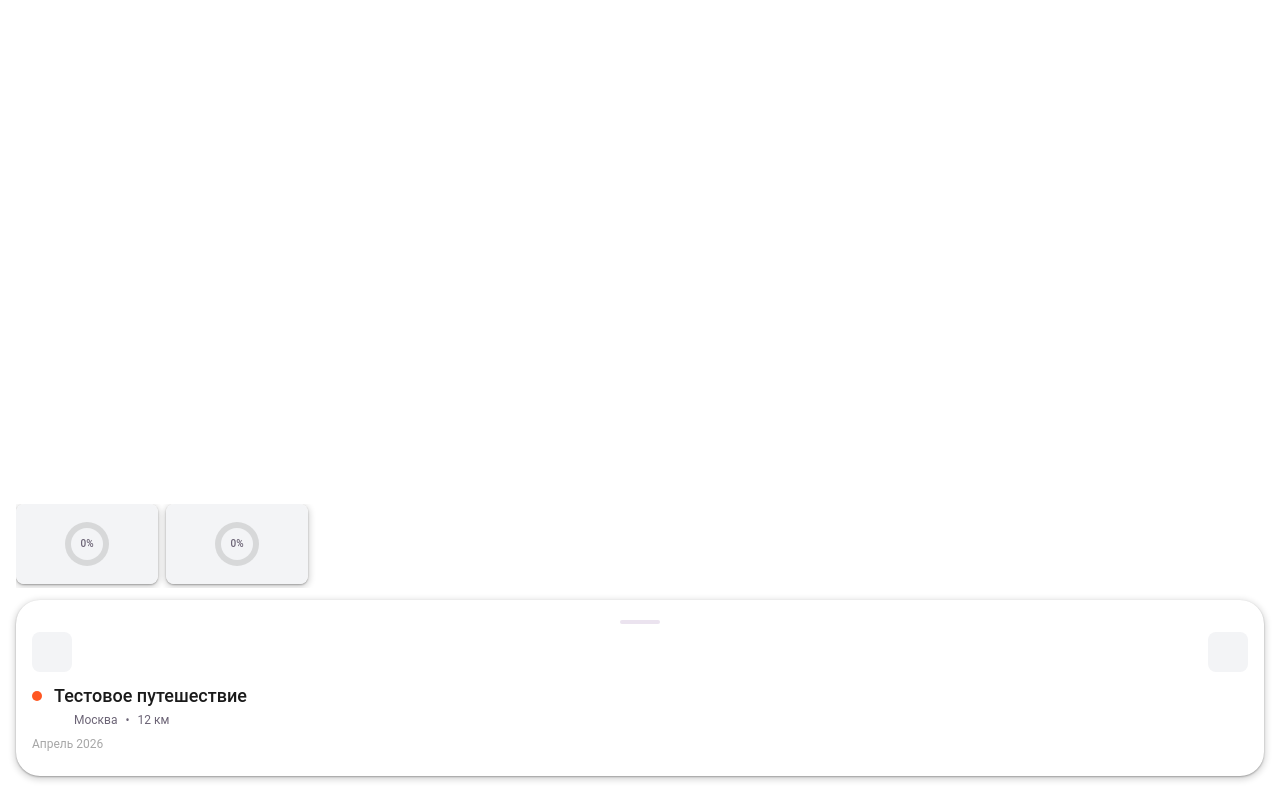
Test case: CardsMobile/Description › opens mobile gallery from preview and switches images by swipe
This screenshot has width=1280, height=800.
Click the 2nd button "0%" at (237, 544), box [166, 504, 308, 584]
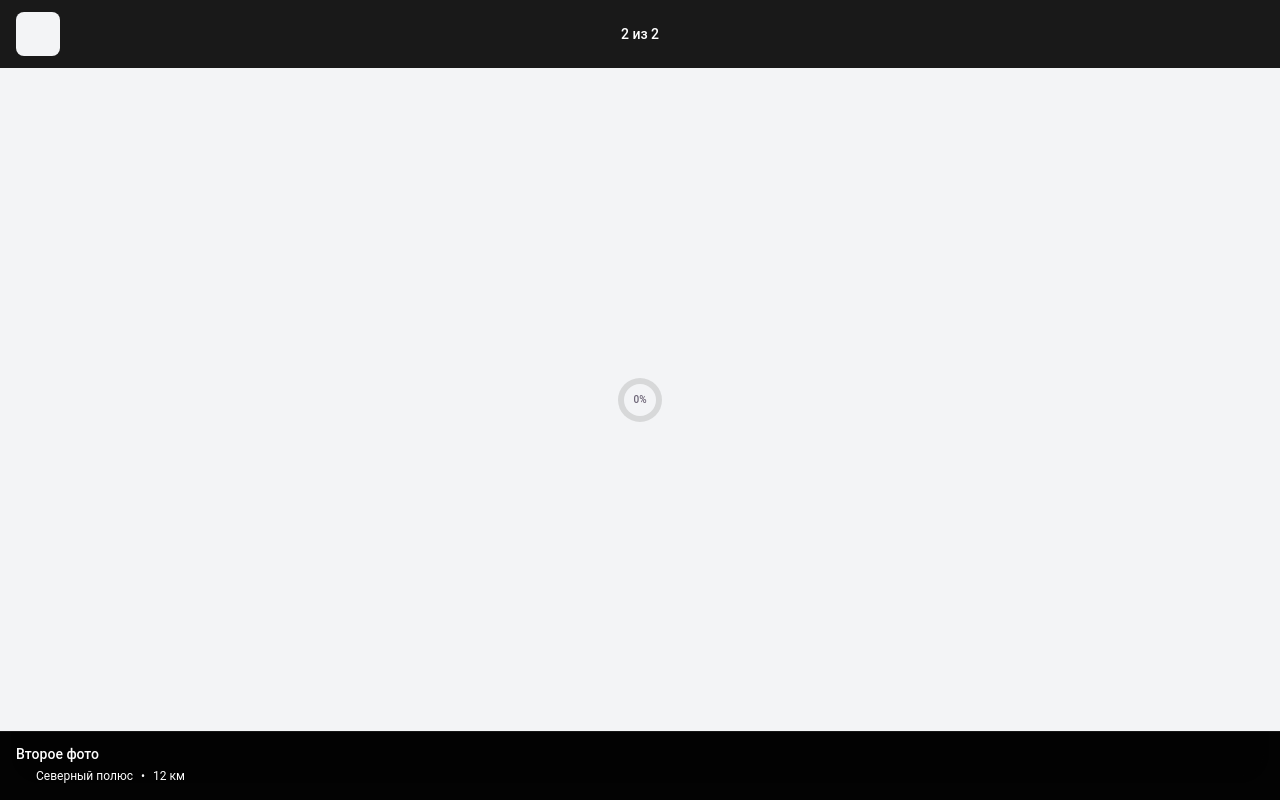
Now the text "2 из 2" is shown, box [621, 26, 659, 42]
Now the text "Второе фото" is shown, box [16, 746, 99, 762]
Press the mouse on the dialog named "Просмотр изображений" at (640, 400), box [0, 0, 1279, 799]
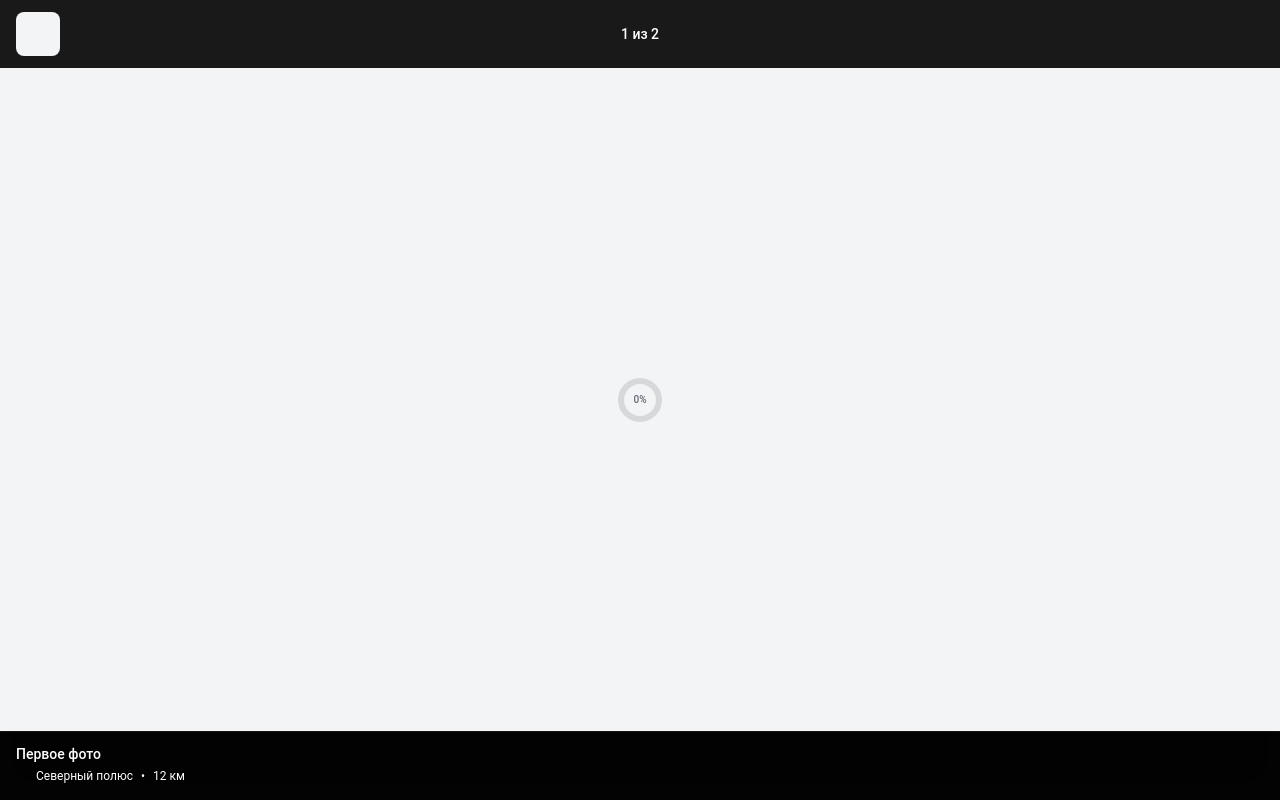
Now the text "1 из 2" is shown, box [621, 26, 659, 42]
Now the text "Первое фото" is shown, box [16, 746, 101, 762]
Click the button named "Закрыть просмотр" at (38, 34), box [16, 12, 60, 56]
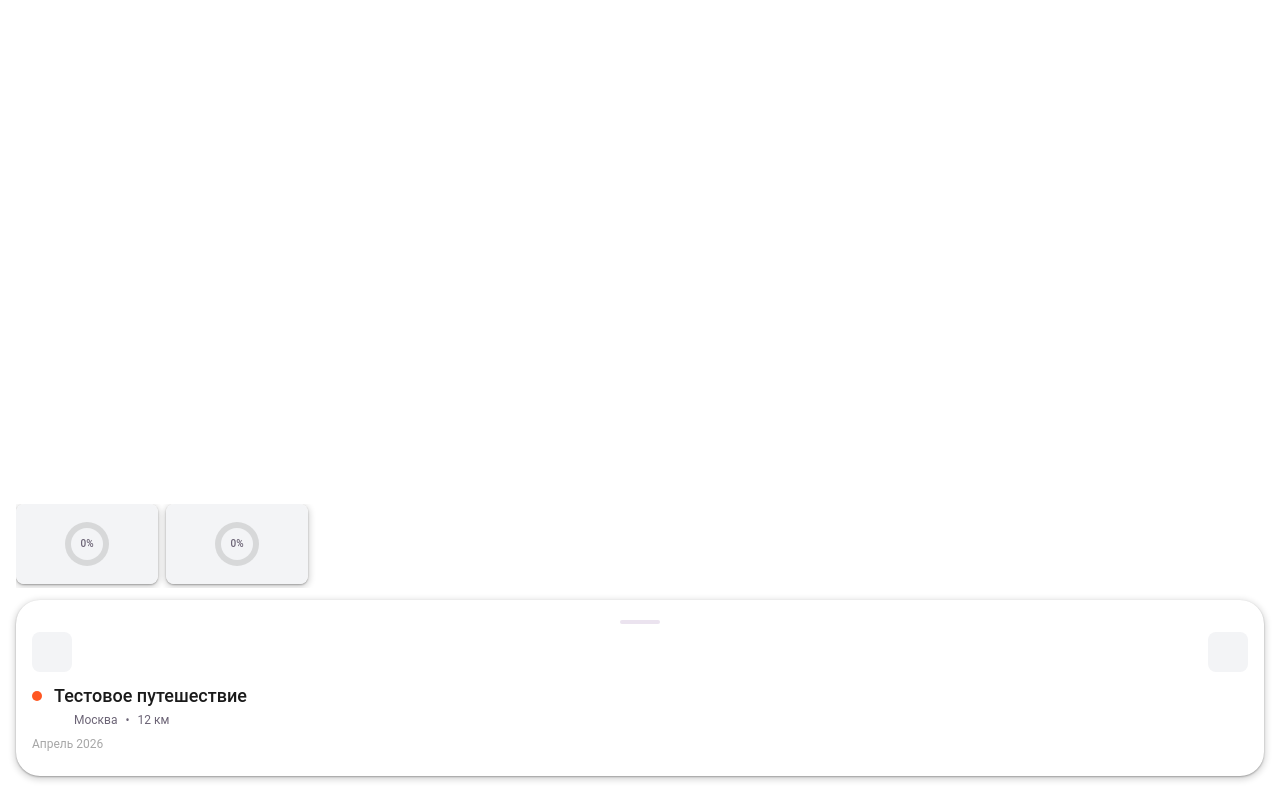
Now the text "1 из 2" is gone
